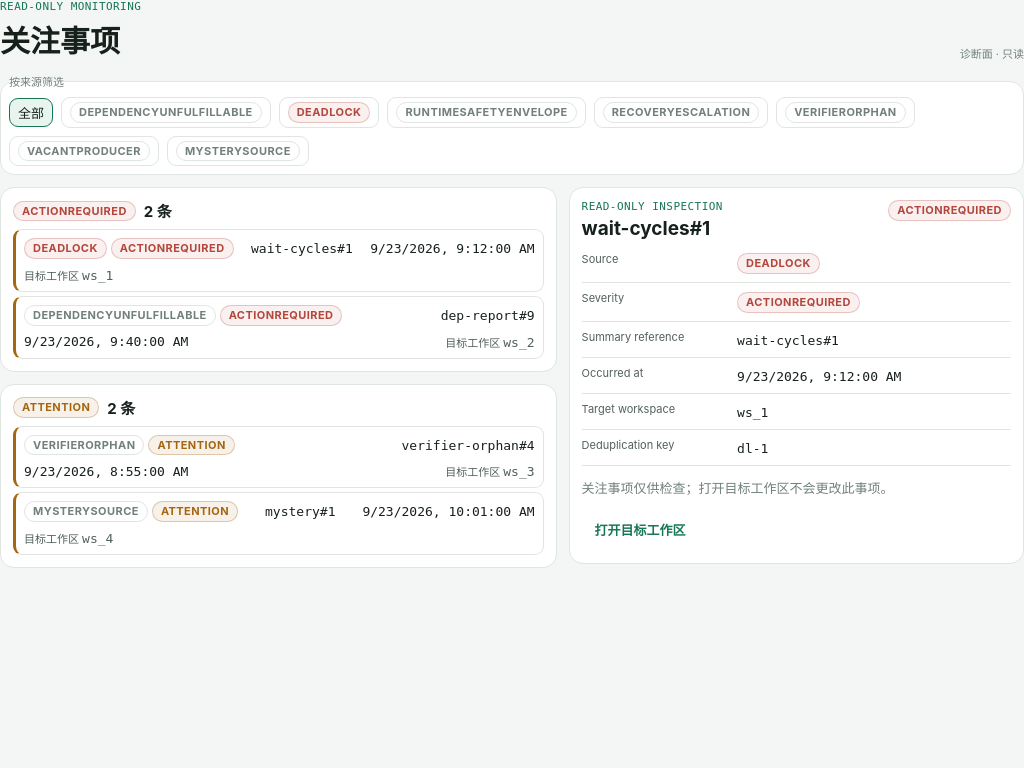
W-06 关注事项页（只读） › 只有服务端对当前 principal 精确解析通过后才显示 RetryVerification 表单
Expected: the text "verifier-orphan#4" is shown, [402,438,535,453]
Step 1. Click the button "verifier-orphan#4" → click(84, 445), box [13,426,544,488]
(page scrolled)
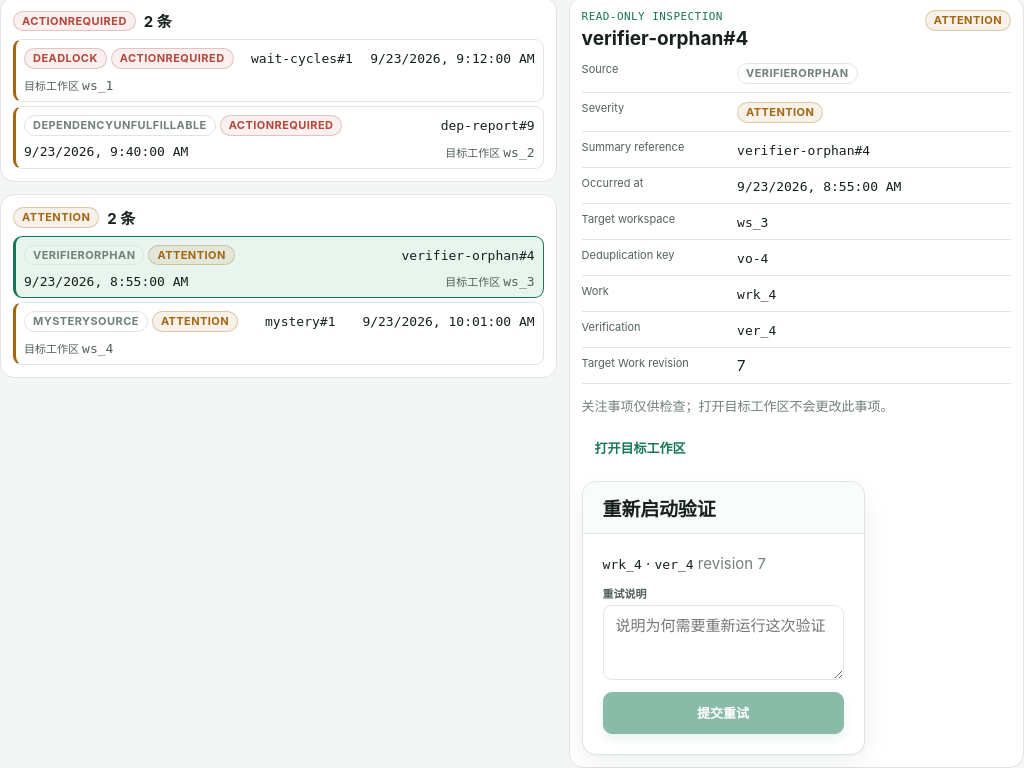
Now the form named "重新启动验证" is shown, box [603,554,844,734]
Now the button "提交重试" is shown, box [603,692,844,734]
